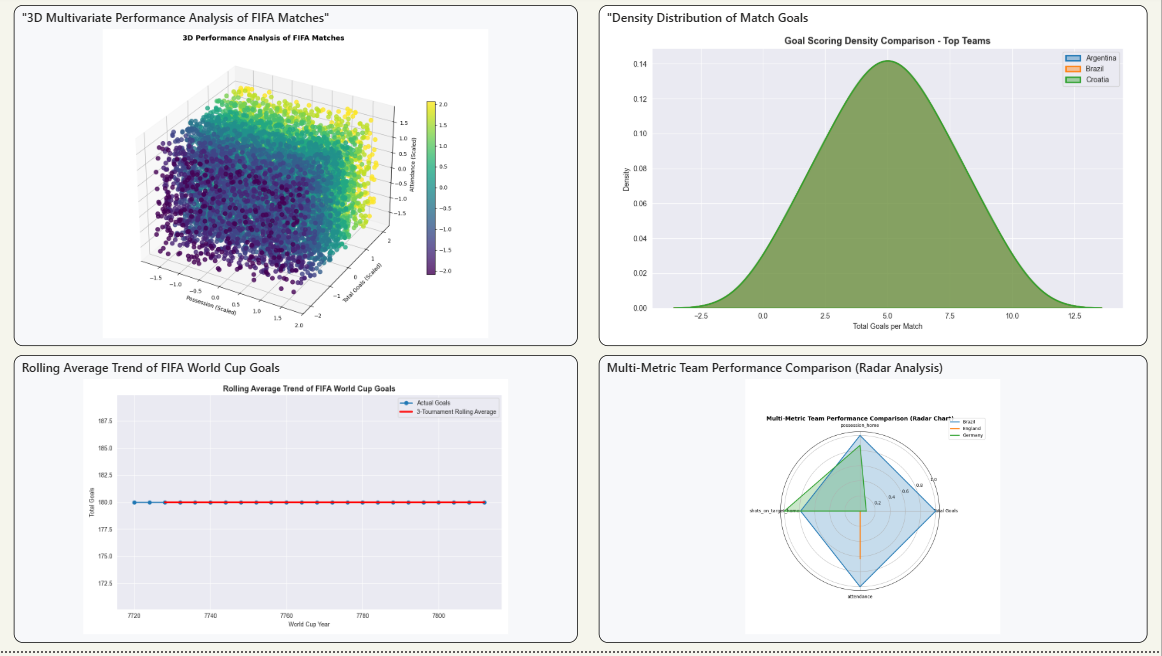

This screenshot's page, from the dashboard's own definition file:
{"tool":"powerbi","page":{"name":"Page 5","canvas":[1280,720],"ordinal":4},"visuals":[{"type":"pythonVisual","title":"\"3D Multivariate Performance Analysis of FIFA Matches\"","fields":{"Values":["fifa_worldcup clean_fifa_data.possession_home","fifa_worldcup clean_fifa_data.home_score","fifa_worldcup clean_fifa_data.away_score","fifa_worldcup clean_fifa_data.attendance"]},"box":[20.6,11,618.9,374.6],"z":0},{"type":"pythonVisual","title":"Rolling Average Trend of FIFA World Cup Goals","fields":{"Values":["fifa_worldcup clean_fifa_data.worldcup_year","fifa_worldcup clean_fifa_data.home_score","fifa_worldcup clean_fifa_data.away_score"]},"box":[20.6,395.2,618.9,315.6],"z":1000},{"type":"pythonVisual","title":"\"Density Distribution of Match Goals","fields":{"Values":["fifa_worldcup clean_fifa_data.home_team","fifa_worldcup clean_fifa_data.home_score","fifa_worldcup clean_fifa_data.away_score"]},"box":[662.8,11,602.4,374.6],"z":2000},{"type":"pythonVisual","title":"Multi-Metric Team Performance Comparison (Radar Analysis)","fields":{"Values":["fifa_worldcup clean_fifa_data.home_team","fifa_worldcup clean_fifa_data.home_score","fifa_worldcup clean_fifa_data.away_score","fifa_worldcup clean_fifa_data.possession_home","fifa_worldcup clean_fifa_data.shots_on_target_home","fifa_worldcup clean_fifa_data.attendance"]},"box":[662.8,395.2,602.4,315.6],"z":3000}]}

Visuals, with their boxes in screenshot pixels (x1, y1, x2, y2), scaled from the page's 1280x720 canvas onto the 1162x656 screenshot:
""3D Multivariate Performance Analysis of FIFA Matches"" pythonVisual: {"left": 19, "top": 10, "right": 581, "bottom": 351}
"Rolling Average Trend of FIFA World Cup Goals" pythonVisual: {"left": 19, "top": 360, "right": 581, "bottom": 648}
""Density Distribution of Match Goals" pythonVisual: {"left": 602, "top": 10, "right": 1149, "bottom": 351}
"Multi-Metric Team Performance Comparison (Radar Analysis)" pythonVisual: {"left": 602, "top": 360, "right": 1149, "bottom": 648}
